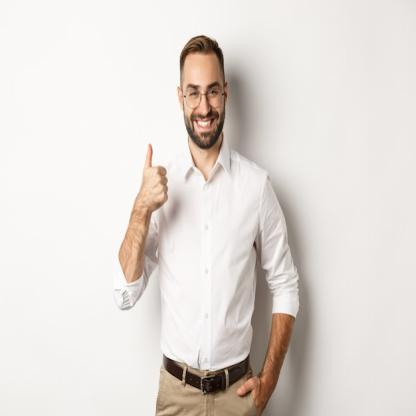thumb_up: (138, 141, 170, 214)
